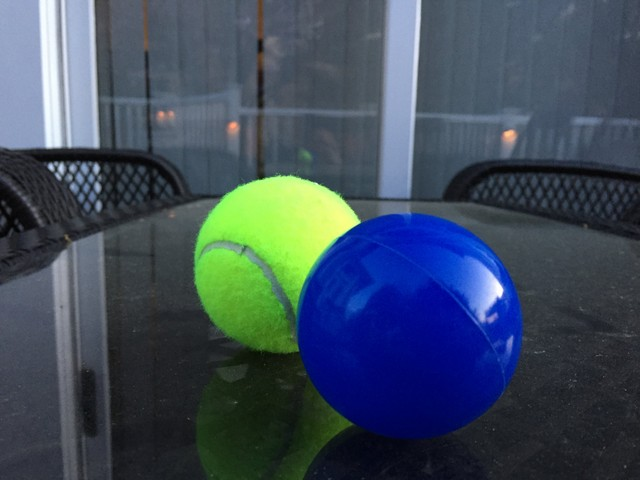ball: (301, 214, 524, 442)
